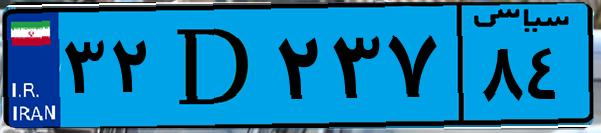2: (270, 28, 330, 110), (110, 28, 158, 98)
3: (330, 28, 385, 110), (57, 26, 110, 100)
4: (525, 38, 570, 115)
7: (385, 28, 445, 110)
8: (475, 38, 525, 113)
D: (158, 12, 270, 120)
